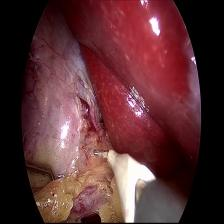Grasper: (24, 159, 67, 197)
Hook: (92, 147, 156, 210)
